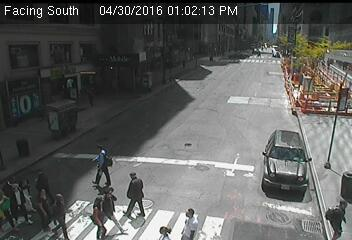neg: (173, 112, 199, 147), (195, 51, 220, 85), (6, 51, 31, 83), (238, 101, 261, 132), (88, 25, 111, 56), (126, 60, 147, 89), (45, 21, 66, 49), (313, 100, 332, 127), (286, 135, 305, 161), (176, 56, 195, 81), (319, 37, 337, 62), (274, 19, 292, 43), (44, 129, 62, 152), (268, 56, 286, 79), (27, 105, 44, 128), (229, 173, 246, 196), (126, 140, 142, 161), (128, 106, 143, 126), (182, 176, 196, 195), (237, 42, 251, 61), (176, 10, 190, 29), (229, 68, 242, 85), (10, 133, 22, 149)
pos: (116, 166, 155, 219), (88, 183, 125, 232), (82, 193, 116, 239), (41, 192, 75, 237), (84, 142, 117, 186), (320, 193, 351, 237), (10, 173, 40, 212), (28, 187, 56, 225), (26, 166, 54, 204), (177, 205, 201, 237), (81, 86, 99, 110), (156, 222, 168, 237)
